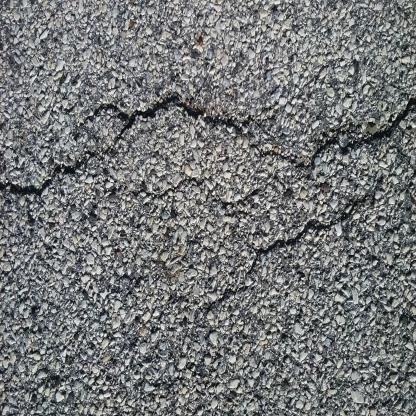Cracks: (0, 87, 416, 210), (246, 180, 379, 276)
